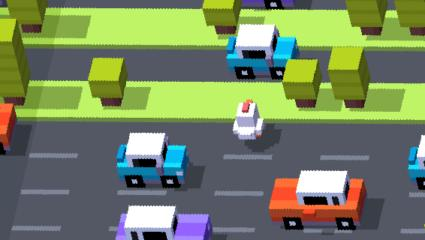hen: (232, 101, 266, 141)
obstacle: (267, 172, 364, 231), (116, 133, 191, 188), (226, 25, 300, 79), (115, 205, 213, 239), (330, 48, 372, 103), (0, 32, 29, 106), (88, 58, 125, 107), (283, 59, 318, 107), (349, 0, 387, 34), (7, 1, 46, 34), (396, 0, 425, 36), (0, 99, 17, 155), (203, 0, 237, 26), (410, 136, 425, 190), (240, 0, 298, 10), (215, 25, 236, 34)
